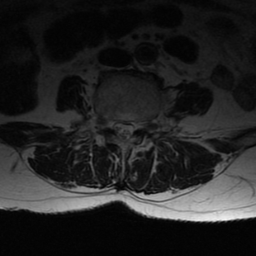CCS_normal: (119, 110, 128, 150)
LFS_normal: (137, 110, 147, 139)
LLS_normal: (128, 110, 137, 146)
RFS_normal: (102, 105, 111, 140)
RLS_normal: (111, 109, 119, 143)
